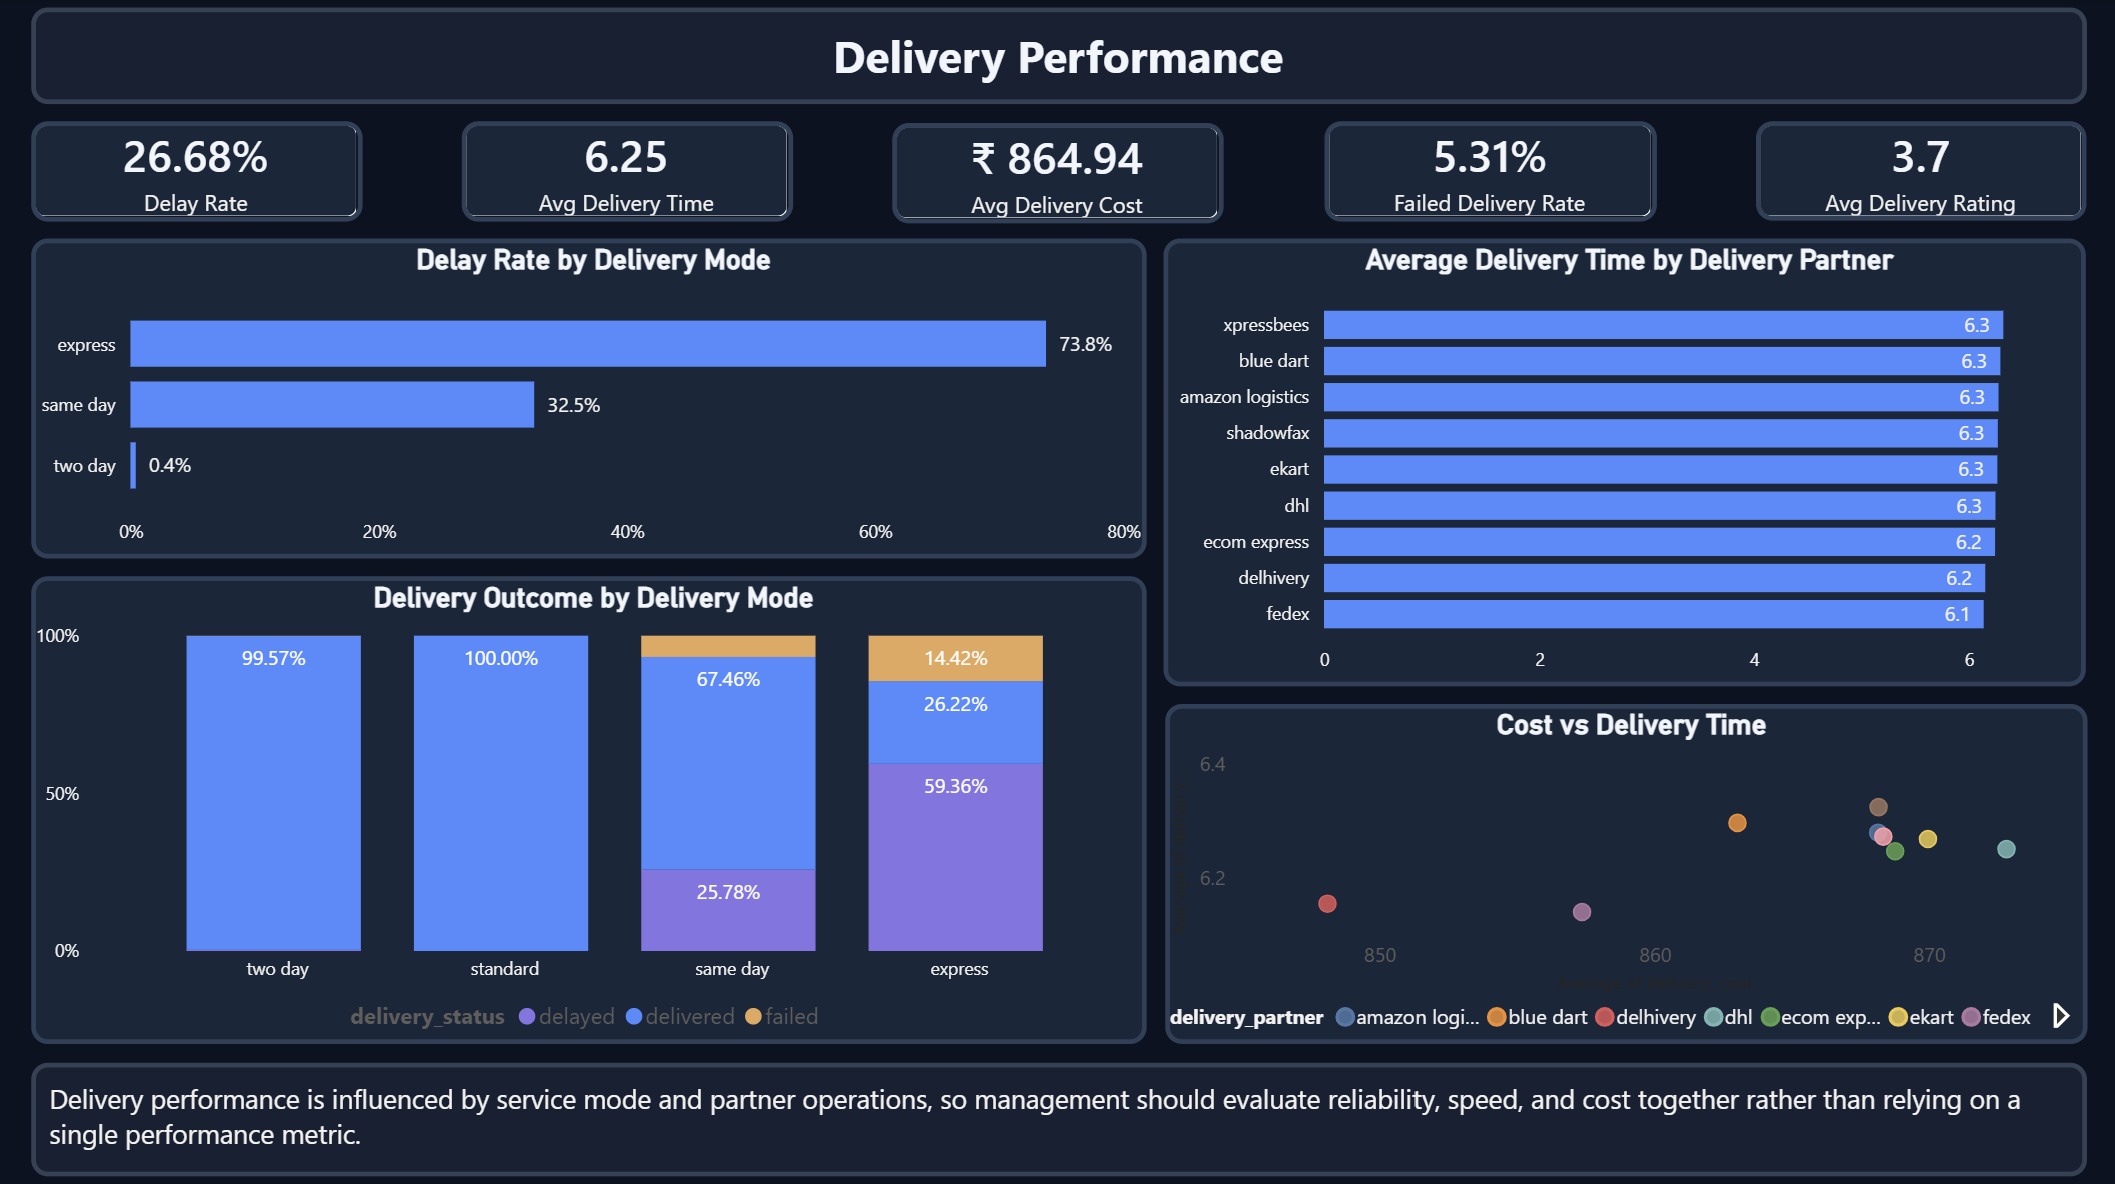

Layout of this report page (visuals, bound fields, positions):
{"tool":"powerbi","page":{"name":"Delivery Performance","canvas":[1280,720],"ordinal":1},"visuals":[{"type":"textbox","box":[19.9,6.5,1239.9,58.1],"z":0},{"type":"cardVisual","fields":{"Data":["delivery_logistics_clean.Failed Delivery Rate"]},"box":[800.1,75,199.7,60.7],"z":1000},{"type":"cardVisual","fields":{"Data":["delivery_logistics_clean.Delay Rate"]},"box":[19.9,75,199.7,60.7],"z":2000},{"type":"cardVisual","fields":{"Data":["delivery_logistics_clean.Average Delivery Time"]},"box":[279.9,75,199.7,60.7],"z":3000},{"type":"cardVisual","fields":{"Data":["delivery_logistics_clean.Avg Delivery Cost"]},"box":[540,76.1,199.7,60.7],"z":4000},{"type":"cardVisual","fields":{"Data":["delivery_logistics_clean.Avg Delivery Rating"]},"box":[1060.1,75.2,199.6,60.2],"z":5000},{"type":"clusteredBarChart","title":"Average Delivery Time by Delivery Partner","fields":{"Y":["delivery_logistics_clean.Avg Delivery Time"],"Category":["delivery_logistics_clean.delivery_partner"]},"box":[703.8,146,556.1,270.3],"z":6000},{"type":"clusteredBarChart","title":"Delay Rate by Delivery Mode","fields":{"Y":["delivery_logistics_clean.Delay Rate"],"Category":["delivery_logistics_clean.delivery_mode"]},"box":[19.7,146,673.1,193.1],"z":7000},{"type":"scatterChart","title":"Cost vs Delivery Time","fields":{"X":["Avg(delivery_logistics_clean.delivery_cost)"],"Y":["Avg(delivery_logistics_clean.delivery_time_hours)"],"Series":["delivery_logistics_clean.delivery_partner"]},"box":[704,427,556.1,205.2],"z":8000},{"type":"hundredPercentStackedColumnChart","title":"Delivery Outcome by Delivery Mode","fields":{"Category":["delivery_logistics_clean.delivery_mode"],"Y":["CountNonNull(delivery_logistics_clean.delivery_id)"],"Series":["delivery_logistics_clean.delivery_status"]},"box":[19.9,349.8,673.1,282.5],"z":9000},{"type":"textbox","box":[19.9,643.3,1240.3,68.4],"z":10000}]}

Visuals, with their boxes in screenshot pixels (x1, y1, x2, y2), scaled from the page's 1280x720 canvas onto the 2115x1184 screenshot:
textbox: {"x1": 33, "y1": 11, "x2": 2082, "y2": 106}
cardVisual - delivery_logistics_clean.Failed Delivery Rate: {"x1": 1322, "y1": 123, "x2": 1652, "y2": 223}
cardVisual - delivery_logistics_clean.Delay Rate: {"x1": 33, "y1": 123, "x2": 363, "y2": 223}
cardVisual - delivery_logistics_clean.Average Delivery Time: {"x1": 462, "y1": 123, "x2": 792, "y2": 223}
cardVisual - delivery_logistics_clean.Avg Delivery Cost: {"x1": 892, "y1": 125, "x2": 1222, "y2": 225}
cardVisual - delivery_logistics_clean.Avg Delivery Rating: {"x1": 1752, "y1": 124, "x2": 2081, "y2": 223}
"Average Delivery Time by Delivery Partner" clusteredBarChart: {"x1": 1163, "y1": 240, "x2": 2082, "y2": 685}
"Delay Rate by Delivery Mode" clusteredBarChart: {"x1": 33, "y1": 240, "x2": 1145, "y2": 558}
"Cost vs Delivery Time" scatterChart: {"x1": 1163, "y1": 702, "x2": 2082, "y2": 1040}
"Delivery Outcome by Delivery Mode" hundredPercentStackedColumnChart: {"x1": 33, "y1": 575, "x2": 1145, "y2": 1040}
textbox: {"x1": 33, "y1": 1058, "x2": 2082, "y2": 1170}
